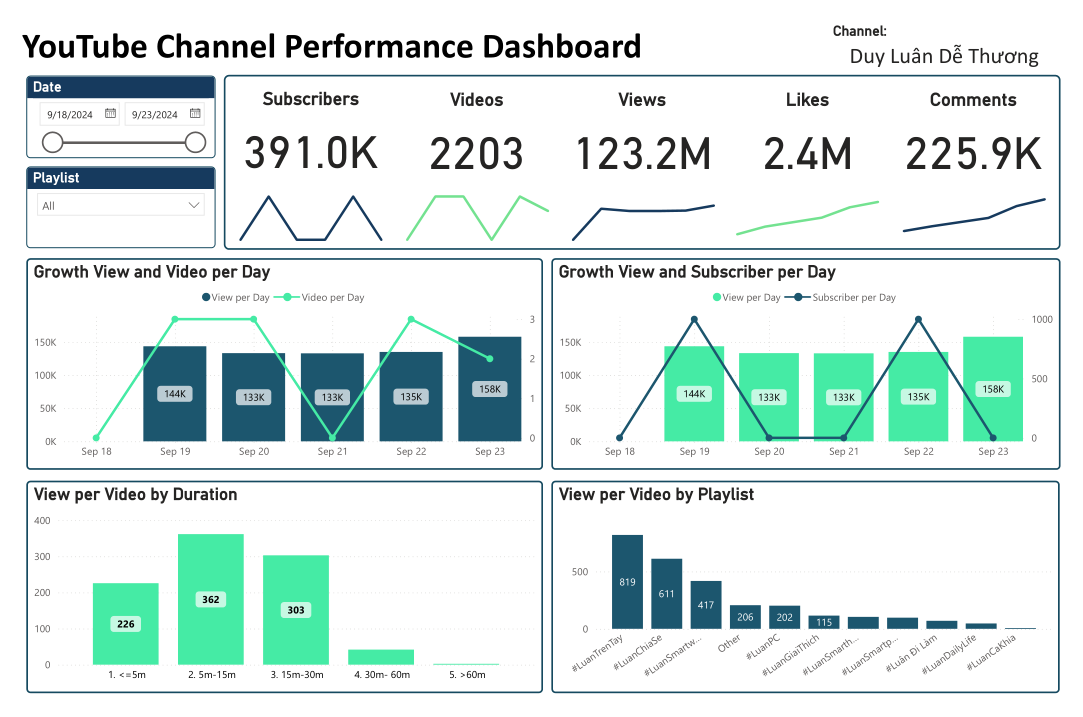

The dashboard page shown, as its layout file describes it:
{"tool":"powerbi","page":{"name":"Page 1","canvas":[1260,820],"ordinal":0},"visuals":[{"type":"textbox","box":[0,0,877.1,68.6],"z":0},{"type":"card","title":"Channel: ","fields":{"Values":["Min(dw dim_channel.channel_name)"]},"box":[972.9,4.3,277.1,60],"z":1000},{"type":"slicer","title":"Date","fields":{"Values":["dw dim_date.d_date"]},"box":[10,68.3,226.7,98.3],"z":2000},{"type":"slicer","title":"Playlist","fields":{"Values":["dw dim_video.playlist_title"]},"box":[10,176.7,226.7,98.3],"z":3000},{"type":"shape","box":[247.3,66.8,1004,210],"z":4000},{"type":"card","title":"Subscribers","fields":{"Values":["Measure.count_subsciber"]},"box":[252.3,83,198.8,115],"z":5000},{"type":"card","title":"Videos","fields":{"Values":["Measure.count_video_latest"]},"box":[450.8,83.5,198.8,115],"z":6000},{"type":"card","title":"Views","fields":{"Values":["Measure.count_view_latest"]},"box":[649.6,83.5,198.8,115],"z":7000},{"type":"card","title":"Likes","fields":{"Values":["Measure.count_like_latest"]},"box":[848.3,83.5,198.8,115],"z":8000},{"type":"card","title":"Comments","fields":{"Values":["Measure.count_comment_latest"]},"box":[1047.1,83.5,198.8,115],"z":9000},{"type":"lineChart","fields":{"Category":["dw dim_date.d_date"],"Y":["Measure.subscriber_per_day"]},"box":[252.1,198.5,198.8,72.5],"z":10000},{"type":"lineChart","fields":{"Category":["dw dim_date.d_date"],"Y":["Measure.video_per_day"]},"box":[452.1,198.5,198.8,72.5],"z":11000},{"type":"lineChart","fields":{"Category":["dw dim_date.d_date"],"Y":["Measure.view_per_day"]},"box":[650.8,198.5,198.8,72.5],"z":12000},{"type":"lineChart","fields":{"Category":["dw dim_date.d_date"],"Y":["Sum(dw fact_video_detail.video_like_count)"]},"box":[848.3,198.5,198.8,72.5],"z":13000},{"type":"lineChart","fields":{"Category":["dw dim_date.d_date"],"Y":["Sum(dw fact_video_detail.video_comment_count)"]},"box":[1048.3,198.5,198.8,72.5],"z":14000},{"type":"lineClusteredColumnComboChart","title":"Growth View and Video per Day","fields":{"Category":["dw dim_date.d_date"],"Y":["Measure.view_per_day"],"Y2":["Measure.video_per_day"]},"box":[10,287.1,620,254.3],"z":15000},{"type":"clusteredColumnChart","title":"View per Video by Duration","fields":{"Category":["dw dim_video.duration_group"],"Y":["Measure.view_per_video"]},"box":[10,554.3,620,254.3],"z":16000},{"type":"clusteredColumnChart","title":"View per Video by Playlist","fields":{"Category":["dw dim_video.playlist_title"],"Y":["Measure.view_per_video"]},"box":[640,554.3,610,254.3],"z":17000},{"type":"lineClusteredColumnComboChart","title":"Growth View and Subscriber per Day","fields":{"Category":["dw dim_date.d_date"],"Y":["Measure.view_per_day"],"Y2":["Measure.subscriber_per_day"]},"box":[640,287.1,611.4,254.3],"z":18000}]}

Visuals, with their boxes in screenshot pixels (x1, y1, x2, y2), scaled from the page's 1260x820 canvas onto the 1083x717 screenshot:
textbox: bbox=[0, 0, 754, 60]
"Channel: " card: bbox=[836, 4, 1074, 56]
"Date" slicer: bbox=[9, 60, 203, 146]
"Playlist" slicer: bbox=[9, 155, 203, 240]
shape: bbox=[213, 58, 1076, 242]
"Subscribers" card: bbox=[217, 73, 388, 173]
"Videos" card: bbox=[387, 73, 558, 174]
"Views" card: bbox=[558, 73, 729, 174]
"Likes" card: bbox=[729, 73, 900, 174]
"Comments" card: bbox=[900, 73, 1071, 174]
lineChart - dw dim_date.d_date x Measure.subscriber_per_day: bbox=[217, 174, 388, 237]
lineChart - dw dim_date.d_date x Measure.video_per_day: bbox=[389, 174, 559, 237]
lineChart - dw dim_date.d_date x Measure.view_per_day: bbox=[559, 174, 730, 237]
lineChart - dw dim_date.d_date x Sum(dw fact_video_detail.video_like_count): bbox=[729, 174, 900, 237]
lineChart - dw dim_date.d_date x Sum(dw fact_video_detail.video_comment_count): bbox=[901, 174, 1072, 237]
"Growth View and Video per Day" lineClusteredColumnComboChart: bbox=[9, 251, 542, 473]
"View per Video by Duration" clusteredColumnChart: bbox=[9, 485, 542, 707]
"View per Video by Playlist" clusteredColumnChart: bbox=[550, 485, 1074, 707]
"Growth View and Subscriber per Day" lineClusteredColumnComboChart: bbox=[550, 251, 1076, 473]
